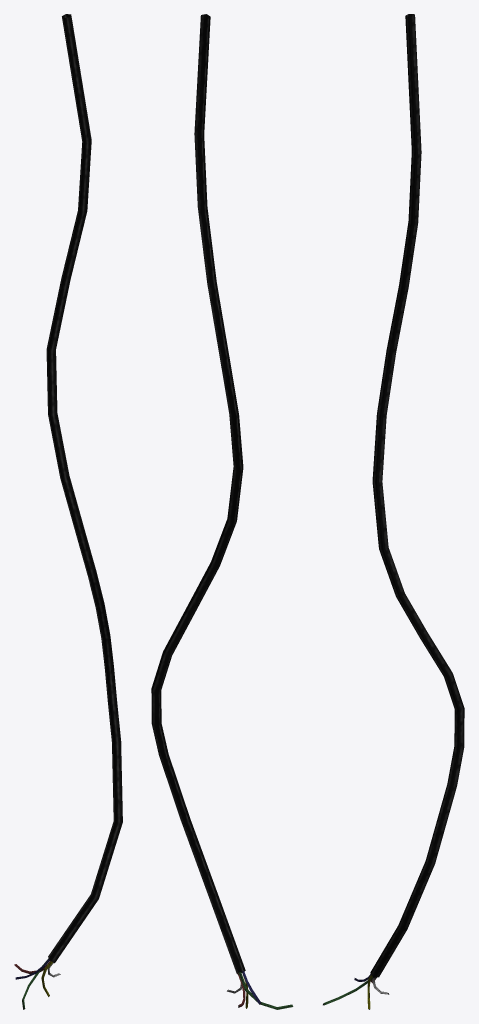
The model's file is Cable.FBX.
3 renders of one model, left to right at view 1: azimuth 30°, elevation 25°; view 2: azimuth 150°, elevation 25°; view 3: azimuth 330°, elevation 25°, orthographic. The views are drawn at different scales.
Parts seen in each view (by area): view 1: Broken_Cable_Example; view 2: Broken_Cable_Example; view 3: Broken_Cable_Example.
Part boxes in pixels (x1,y1,x2,y2): Broken_Cable_Example: (14, 14, 122, 1009); Broken_Cable_Example: (151, 14, 293, 1009); Broken_Cable_Example: (323, 14, 464, 1009).
Size of the model in its own units: 1.83 by 14.56 by 0.894.
Materials: 1 (1 with a texture image).
